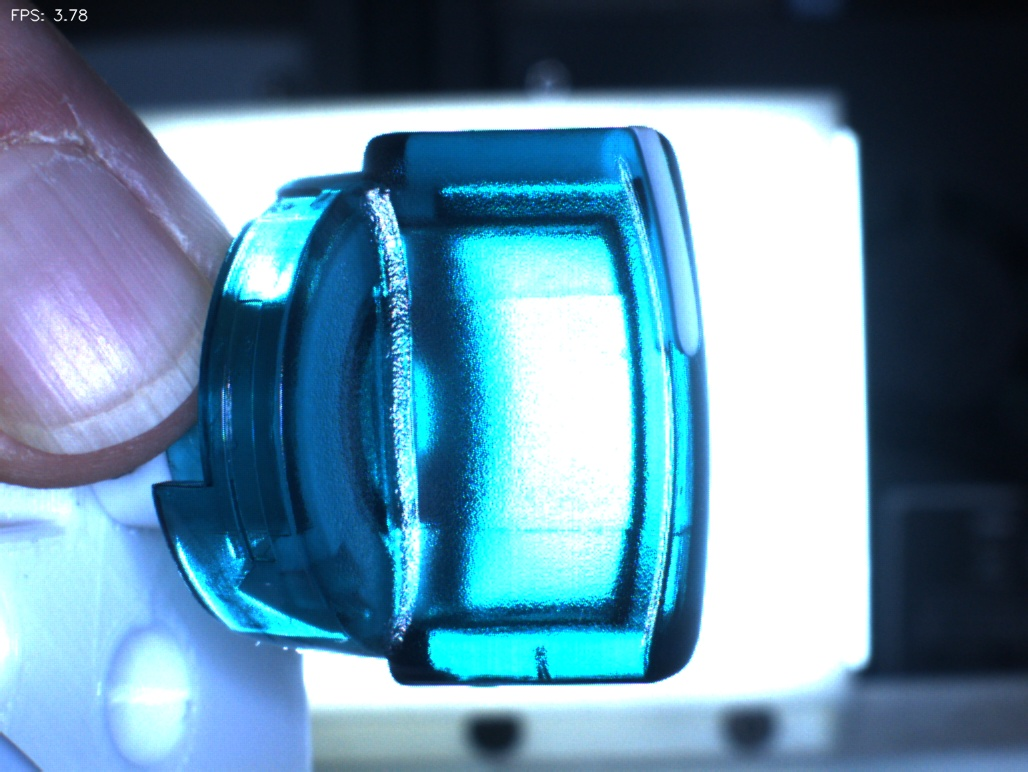Bulle: (499, 630, 584, 716)
